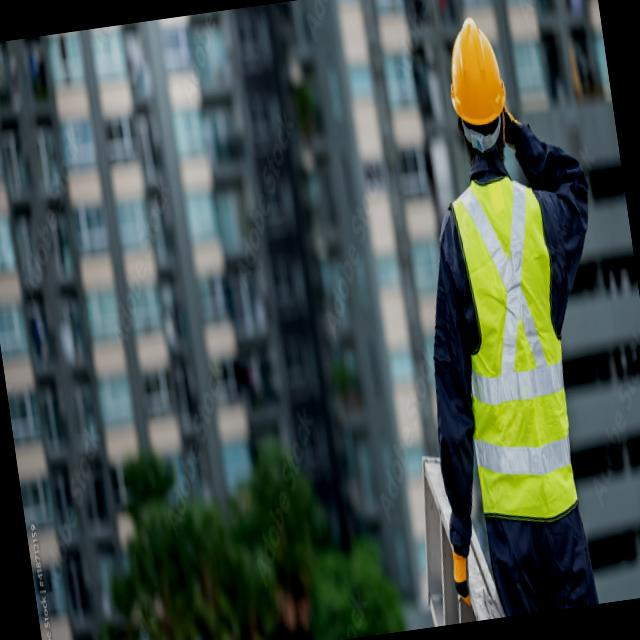helmet: (431, 10, 526, 166)
vest: (436, 172, 598, 534)
